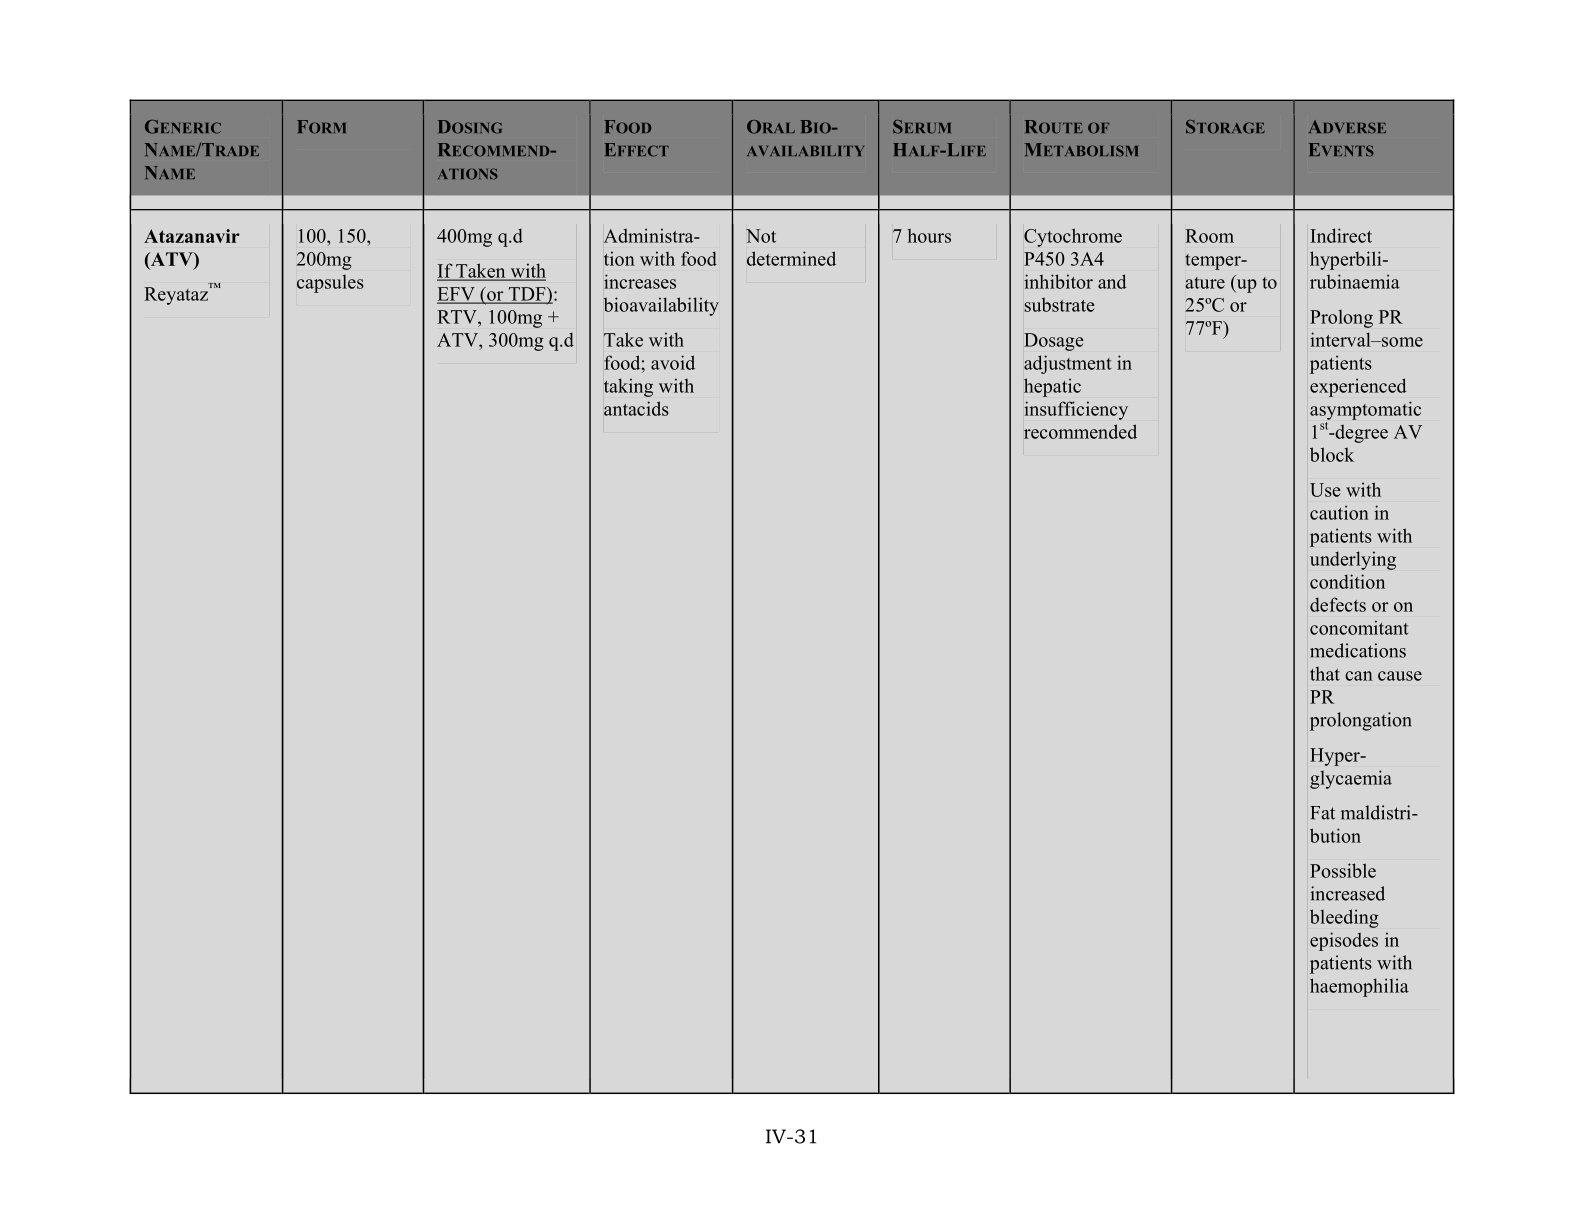full_lined: (129, 98, 1455, 1095)
